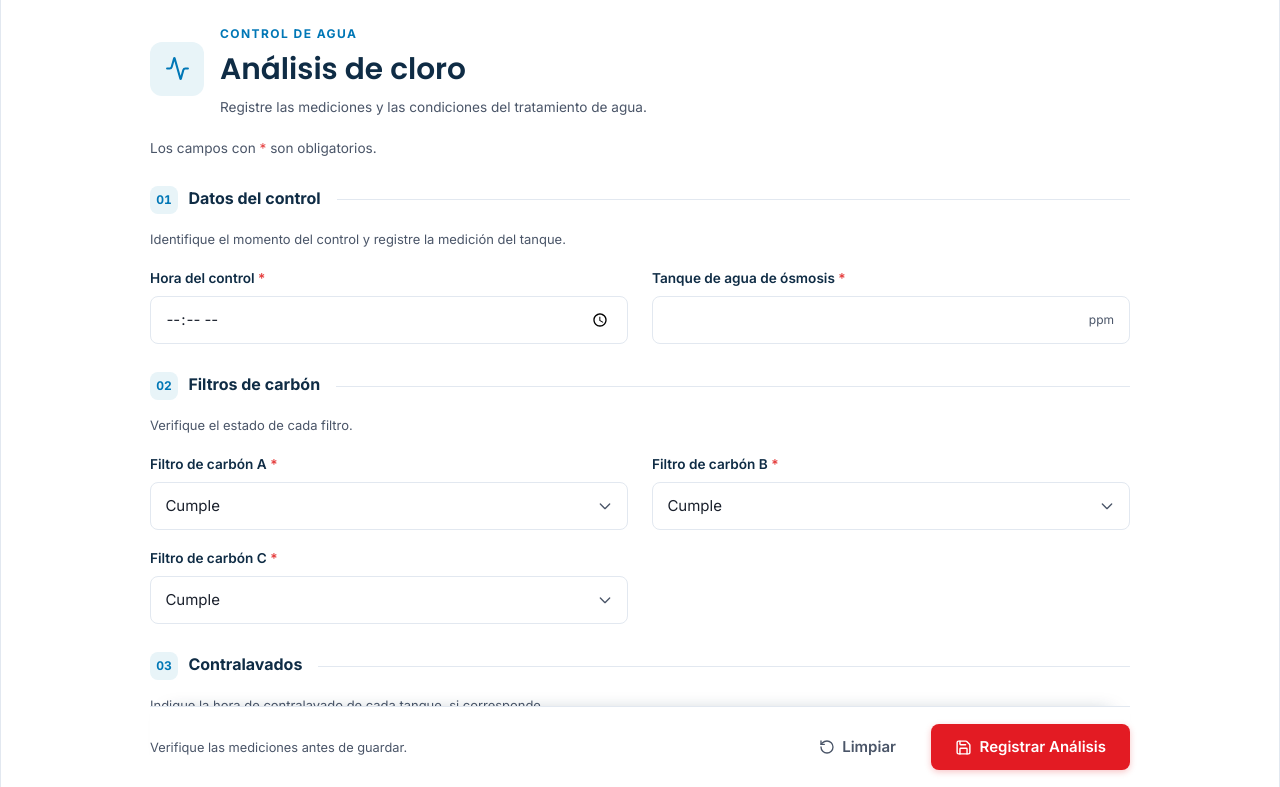
Test: ingreso de datos en formularios › conserva las mediciones si falla el registro del análisis de cloro
Type "09:00" into the time field labelled "Hora del control *" at (389,320), box [150,296,628,344]
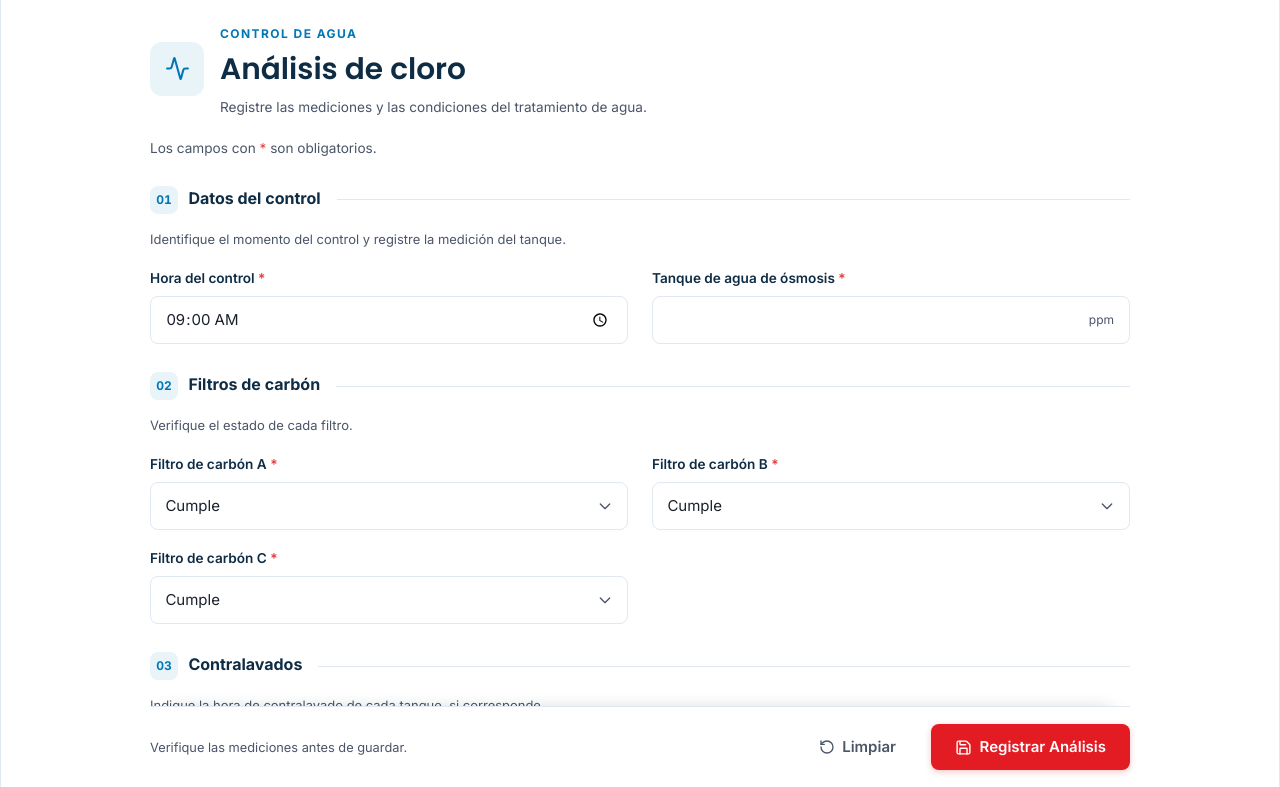
Type "0" into the number field labelled "Tanque de agua de ósmosis *" at (891,320), box [652,296,1130,344]
(page scrolled)
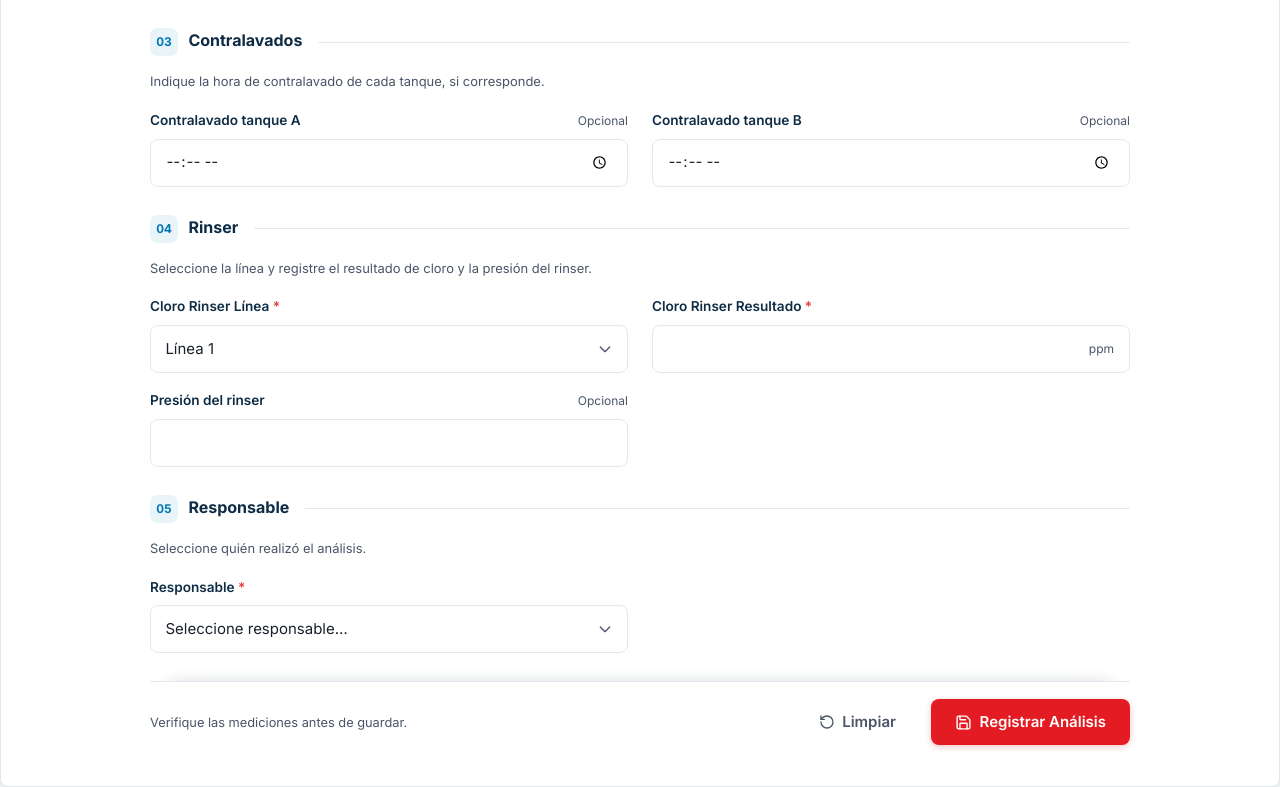
Type "1.25" into the number field labelled "Cloro Rinser Resultado *" at (891,349), box [652,325,1130,373]
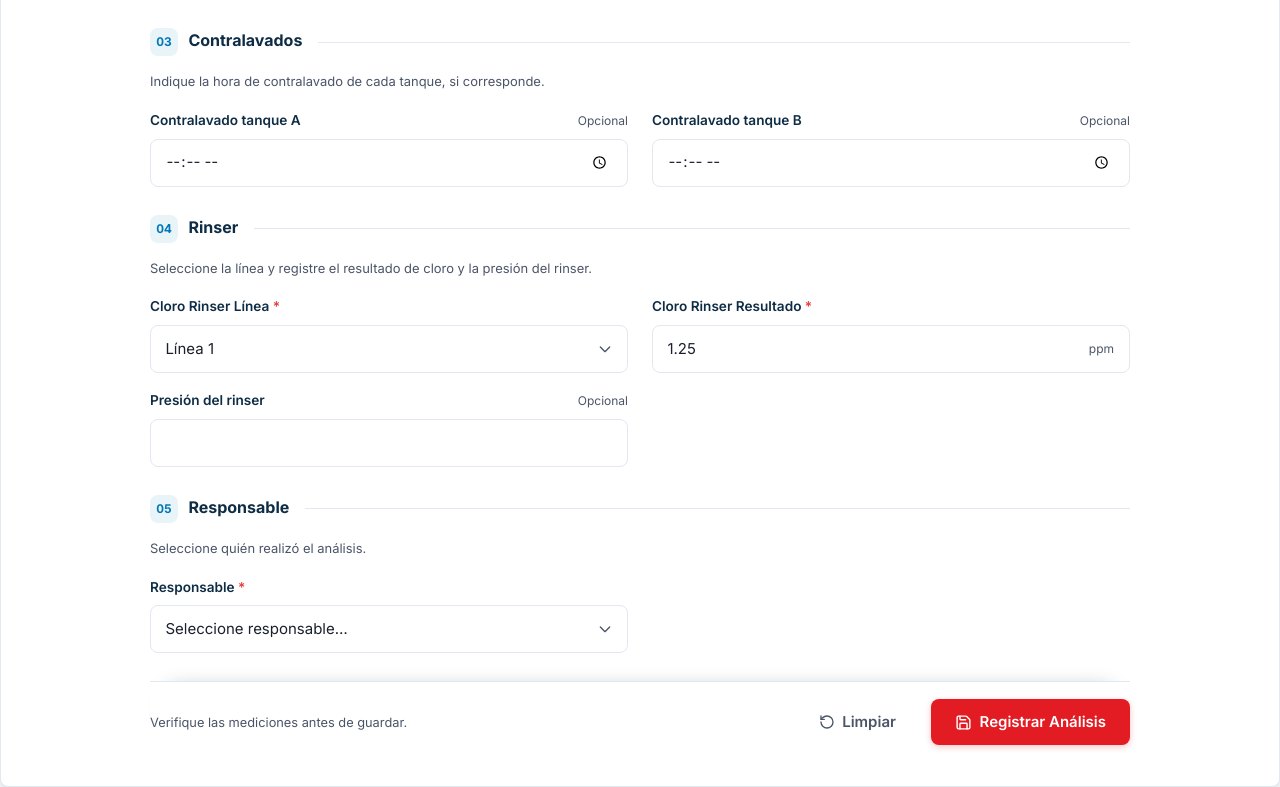
Select "Operador Uno" in the dropdown labelled "Responsable *" at (389,629), box [150,605,628,653]
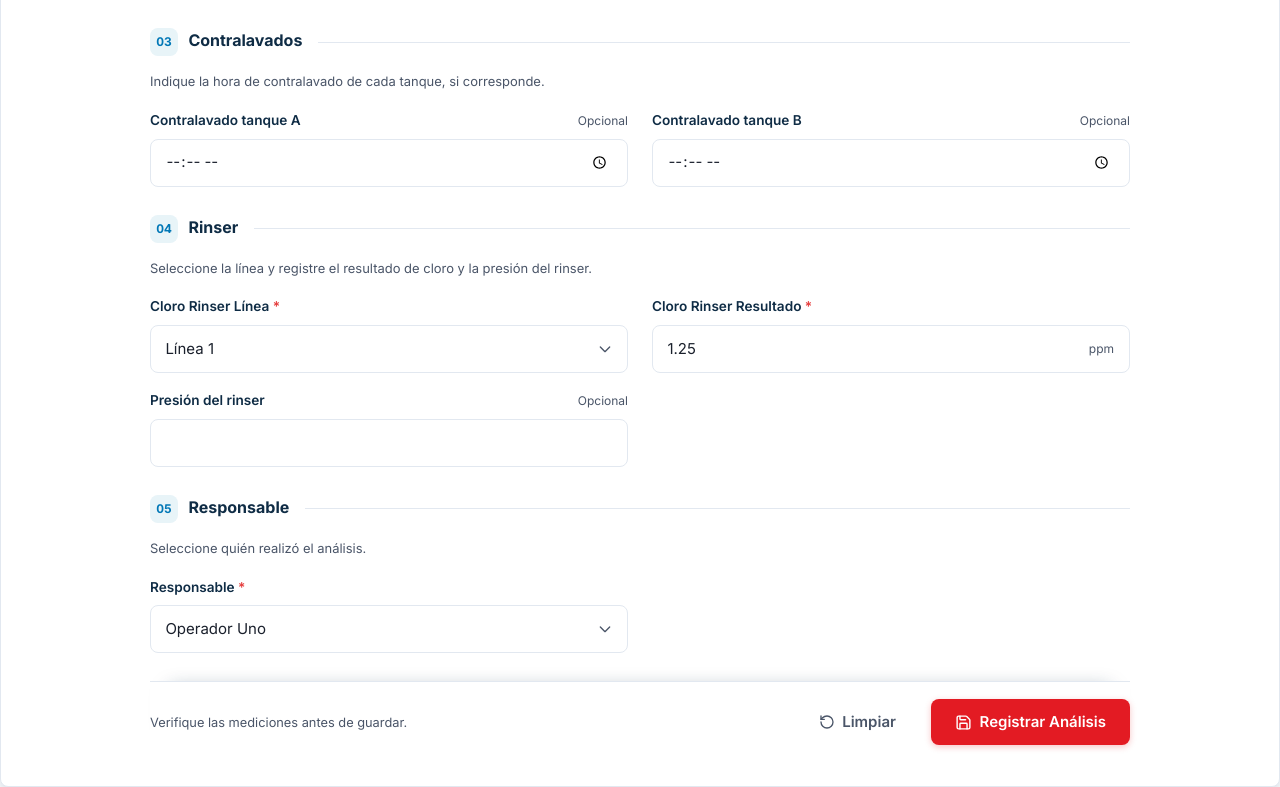
Click the button "Registrar Análisis" at (1031,722), box [931,699,1130,745]
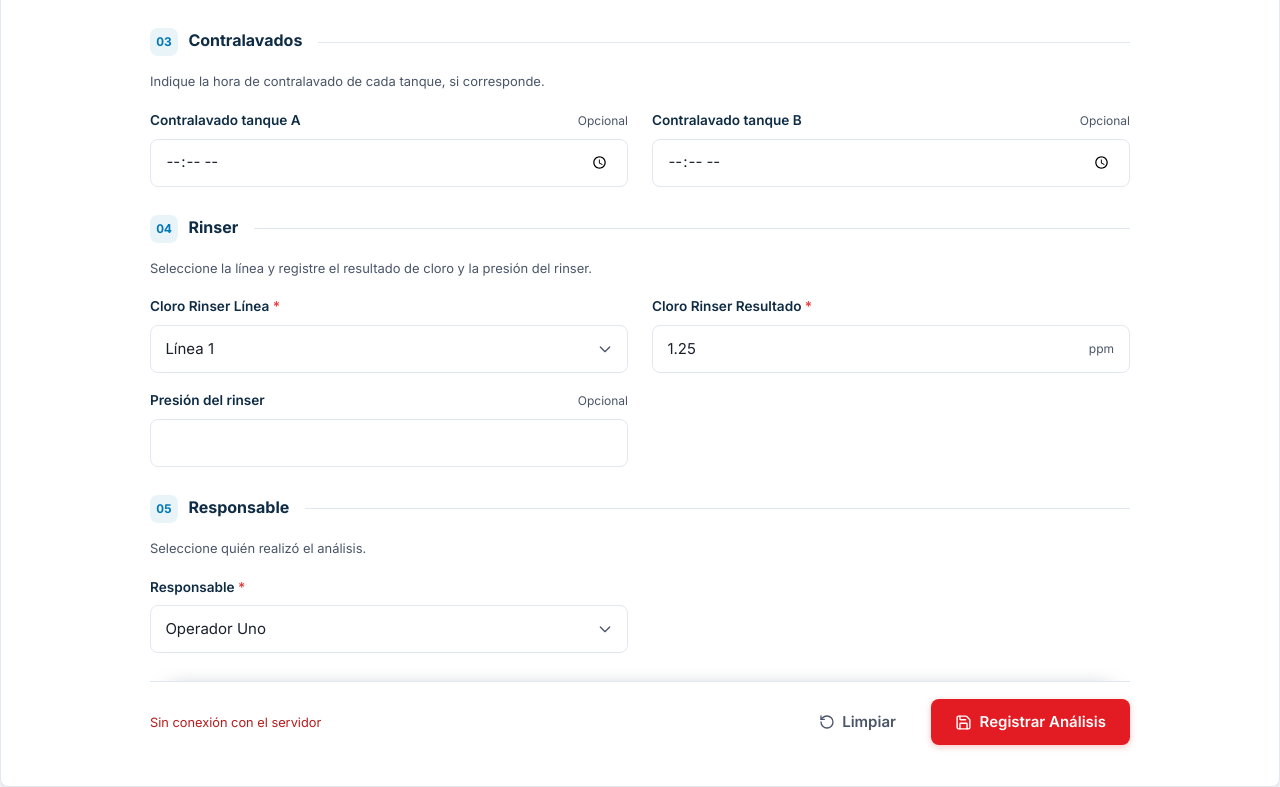
Now the message reads "Sin conexión con el servidor", box [150,715,321,730]
